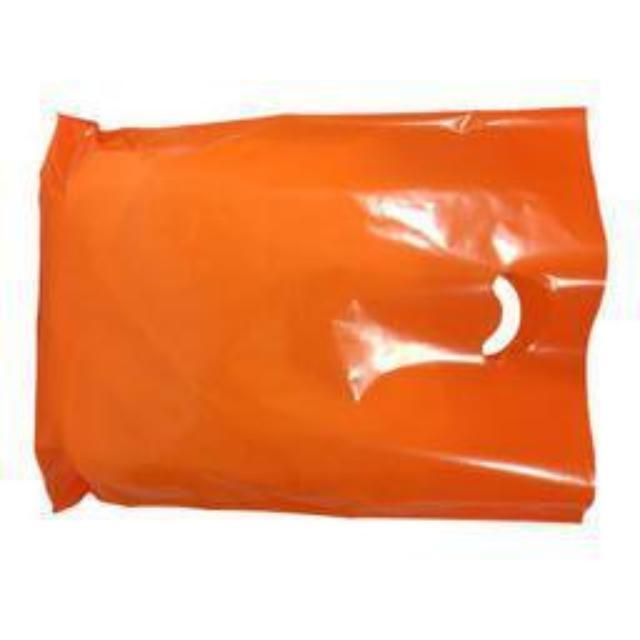Bolsa-de-nilon: (32, 106, 609, 526)
